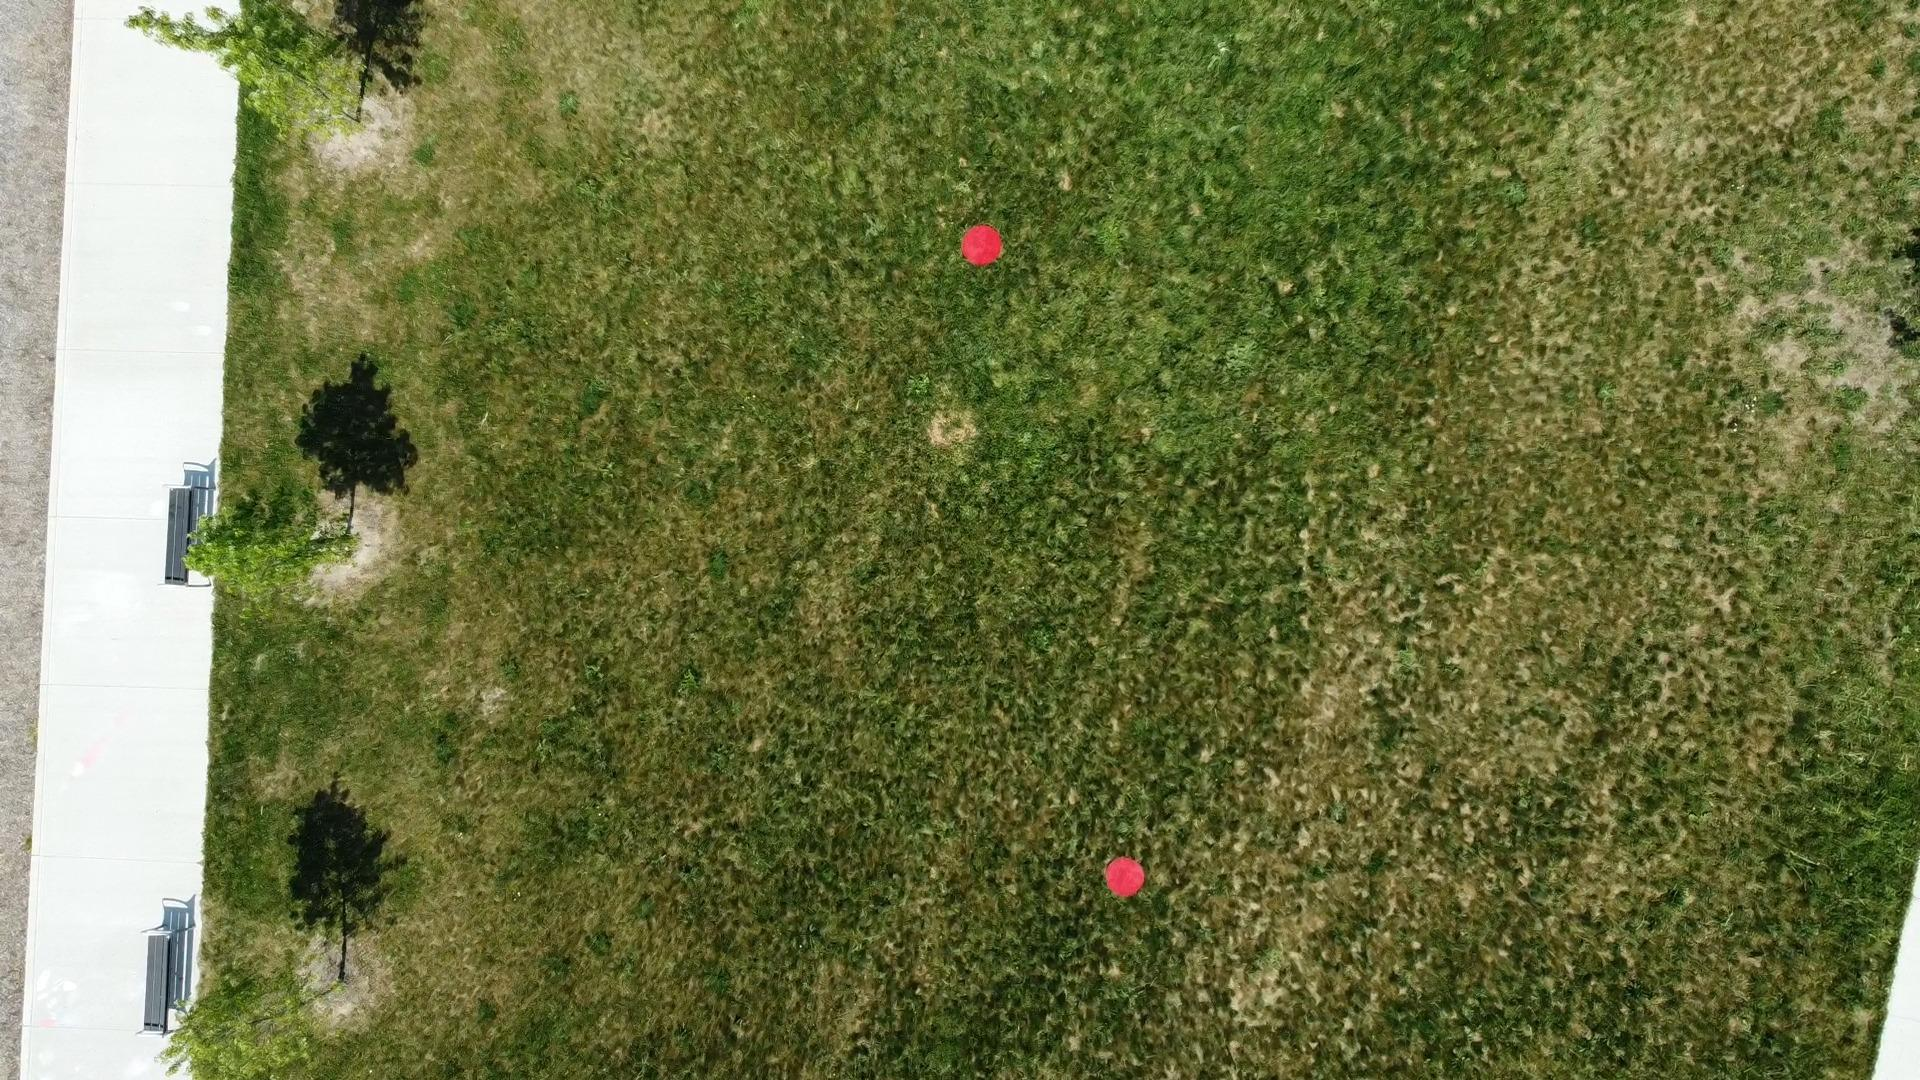Red: (960, 220, 1005, 269), (1102, 855, 1149, 897)
